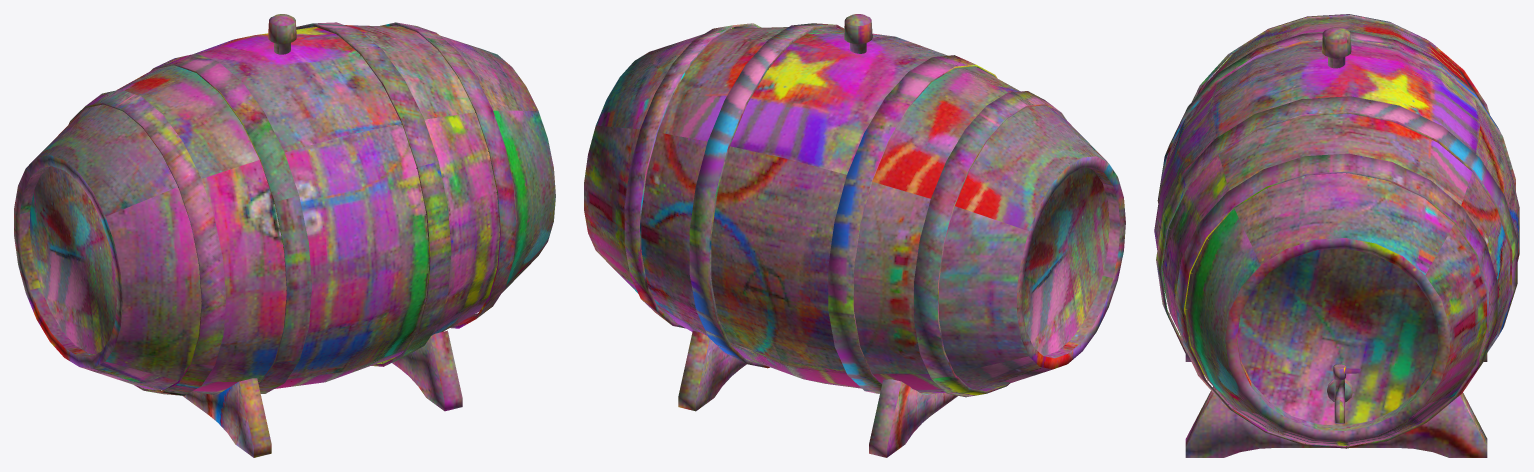
3 renders of one model, left to right at view 1: azimuth 30°, elevation 25°; view 2: azimuth 150°, elevation 25°; view 3: azimuth 270°, elevation 25°, orthographic. The views are drawn at different scales.
Parts seen in each view (by area): view 1: texture_v100.002; view 2: texture_v100.002; view 3: texture_v100.002.
Part boxes in pixels (box(x1,y1,x2,y2)): texture_v100.002: box(14, 14, 555, 457); texture_v100.002: box(584, 14, 1125, 457); texture_v100.002: box(1154, 14, 1519, 457).
Size of the model in its own units: 2 by 1.48 by 1.31.
Materials: 1 (1 with a texture image).
